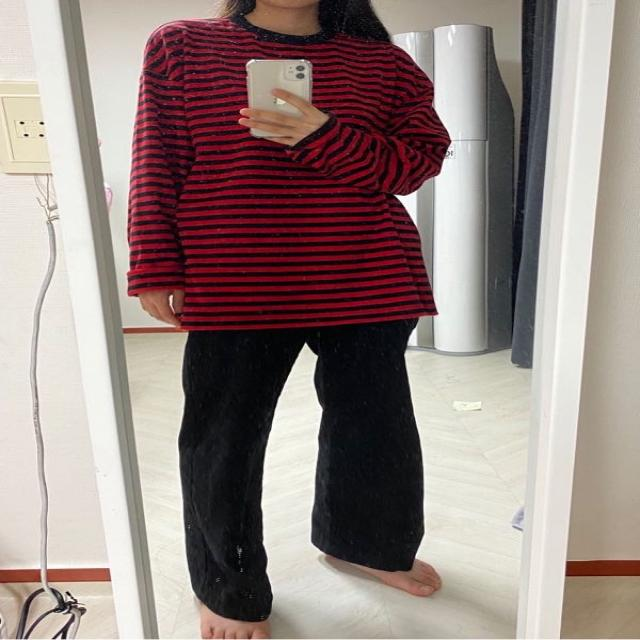longsleeve: (128, 8, 457, 326)
slacks: (180, 318, 428, 622)
